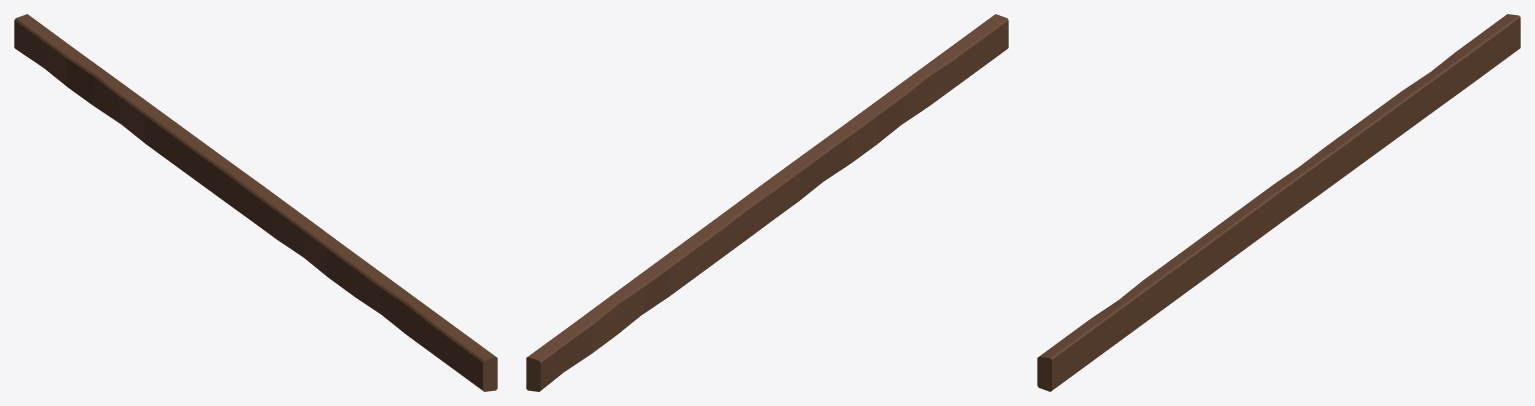
File: Wooden_Beam.fbx
3 views of the same model, side by side, from view 1: azimuth 30°, elevation 25°; view 2: azimuth 150°, elevation 25°; view 3: azimuth 330°, elevation 25° (orthographic).
Parts seen in each view (by area): view 1: Wooden Beam; view 2: Wooden Beam; view 3: Wooden Beam.
Boxes of the visible parts, <box> form: Wooden Beam: <box>14,14,497,391</box>; Wooden Beam: <box>526,14,1008,391</box>; Wooden Beam: <box>1037,14,1520,391</box>.
Bounding box in the file's own units: 7.13 × 16.31 × 400.
Materials: 1 (1 with a texture image).
